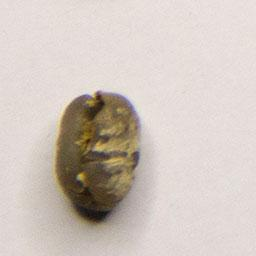peaberry: (50, 85, 145, 222)
